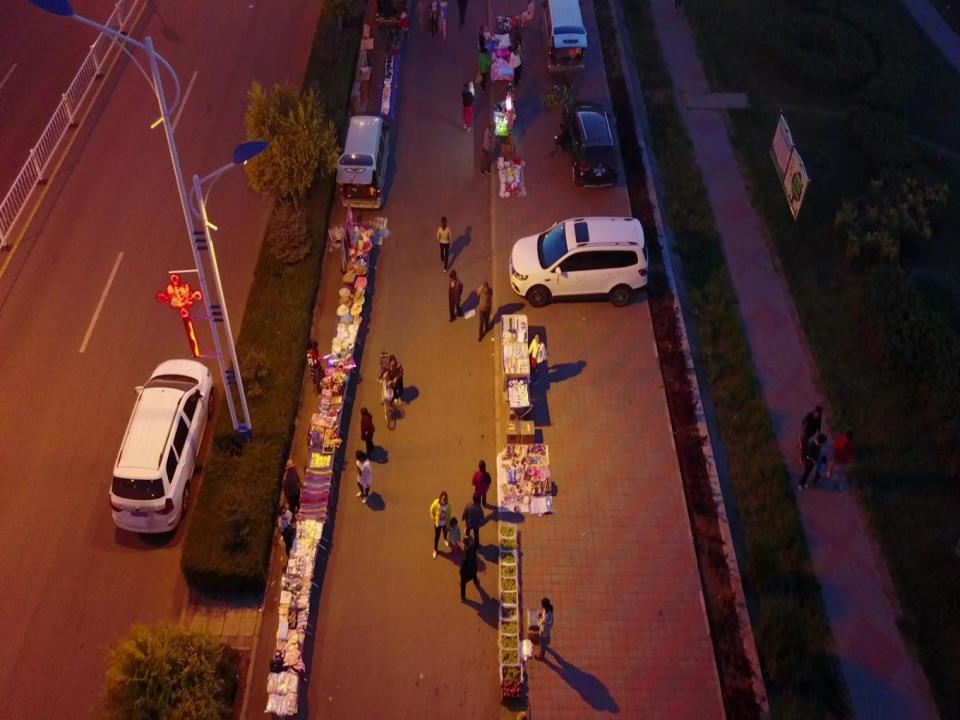car: (508, 214, 649, 310), (562, 98, 620, 188)
van: (108, 356, 215, 534), (335, 113, 392, 209), (538, 0, 588, 75), (375, 0, 410, 28)
